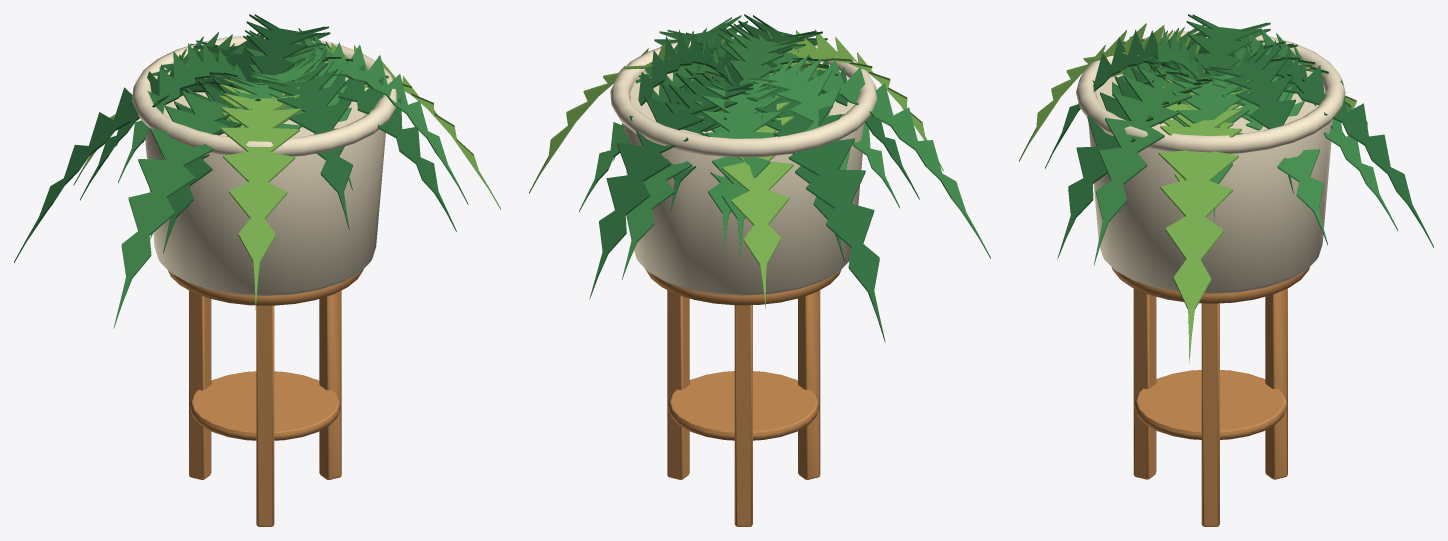
File: plant_fern.glb
3 renders of one model, left to right at view 1: azimuth 30°, elevation 25°; view 2: azimuth 150°, elevation 25°; view 3: azimuth 270°, elevation 25°, orthographic.
Parts seen in each view (by area): view 1: PlantFernBody; view 2: PlantFernBody; view 3: PlantFernBody.
Boxes of the visible parts, x1,y1,x2,y2 form: PlantFernBody: [14, 14, 500, 526]; PlantFernBody: [529, 14, 990, 526]; PlantFernBody: [1019, 14, 1433, 526].
Bounding box in the file's own units: 0.9752 × 0.9865 × 0.8186.
